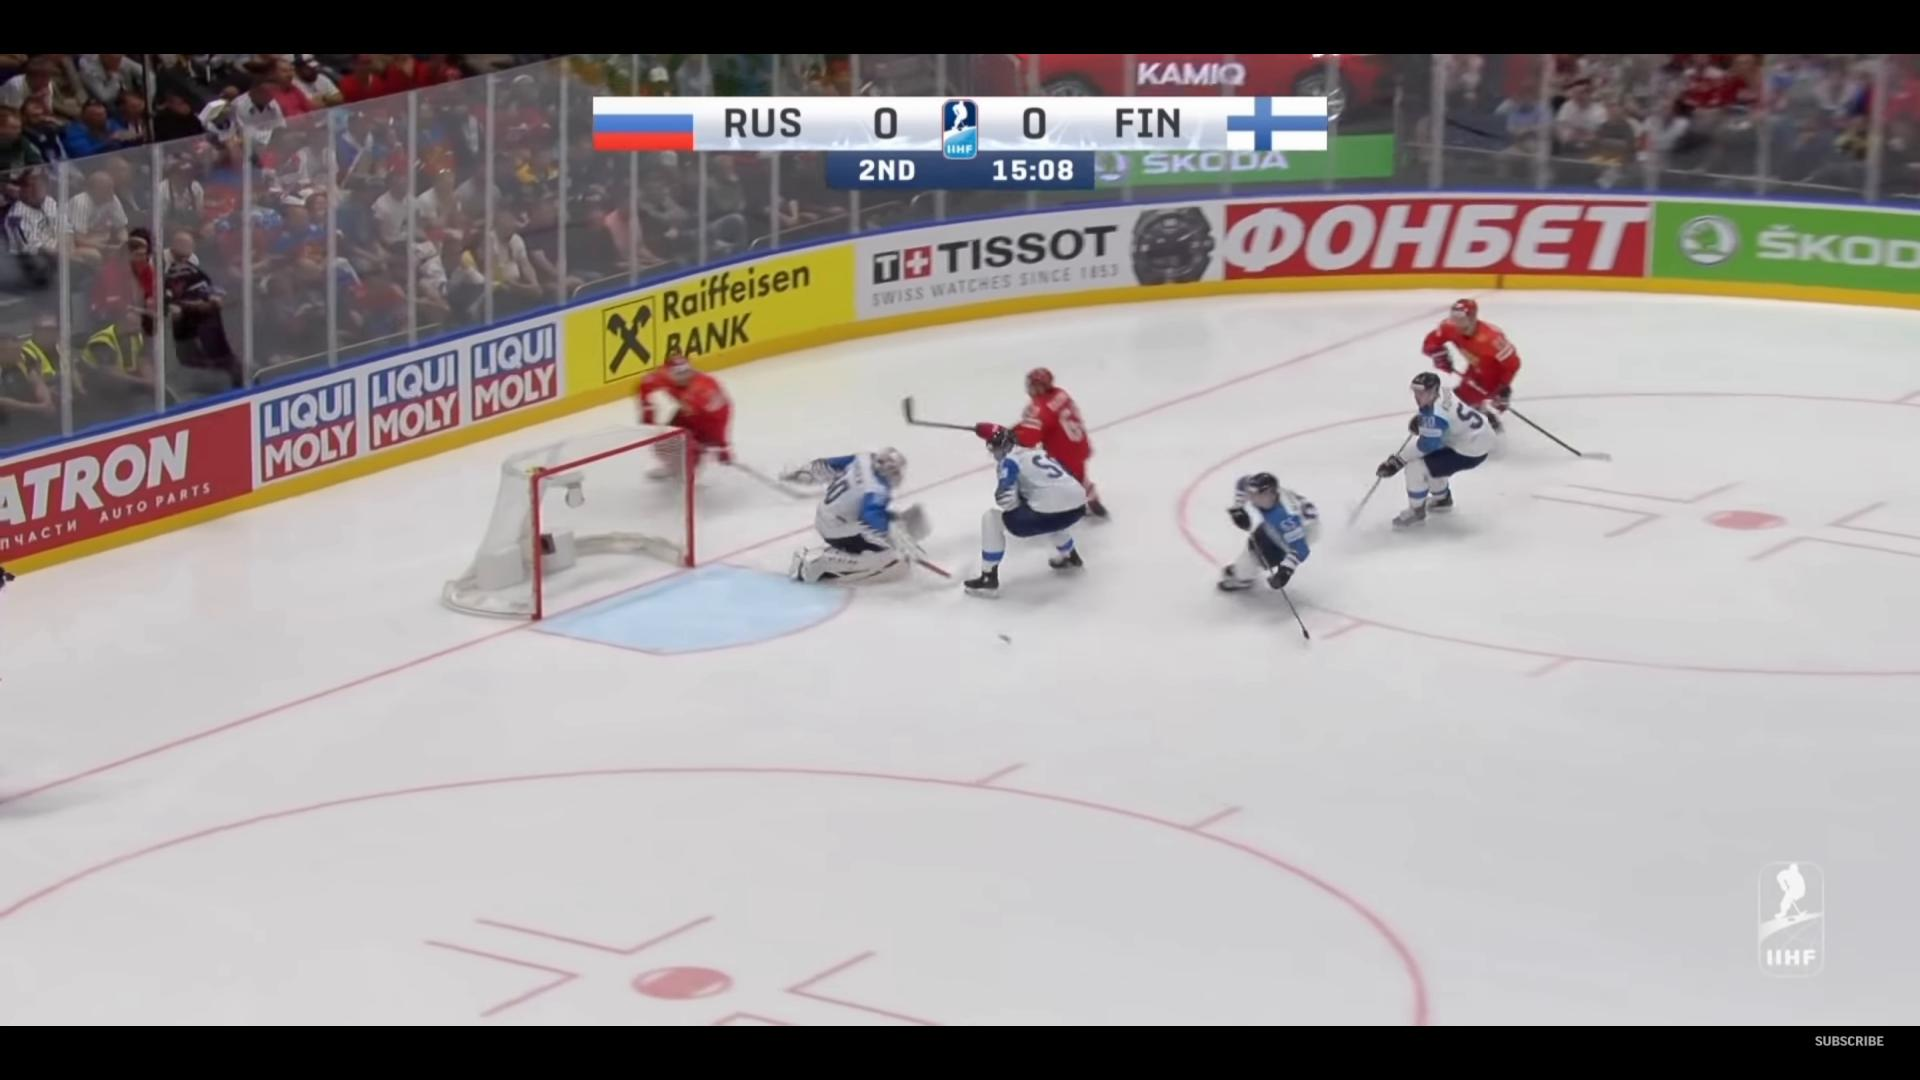puck: (998, 633, 1010, 645)
